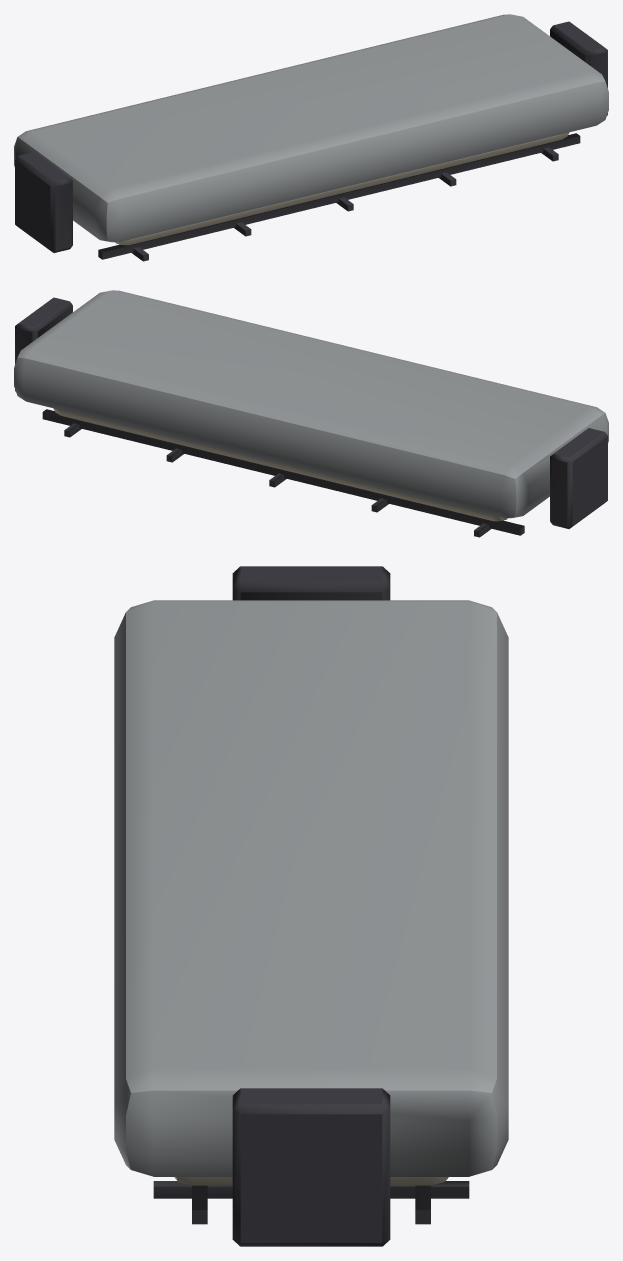
File: TunnelLamp.fbx
3 renders of one model, top to bottom at view 1: azimuth 30°, elevation 25°; view 2: azimuth 150°, elevation 25°; view 3: azimuth 270°, elevation 25°, orthographic. The views are drawn at different scales.
Parts seen in each view (by area): view 1: TunnelLamp; view 2: TunnelLamp; view 3: TunnelLamp.
Part boxes in pixels (<box>): TunnelLamp: <box>14,14,608,261</box>; TunnelLamp: <box>14,290,608,537</box>; TunnelLamp: <box>114,566,508,1246</box>.
Size of the model in its own units: 0.98 by 0.135 by 0.3.
